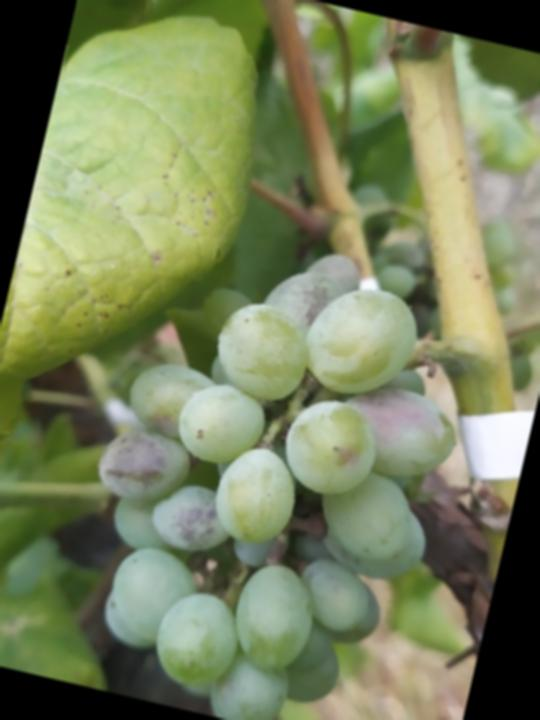grape: (40, 205, 498, 720)
